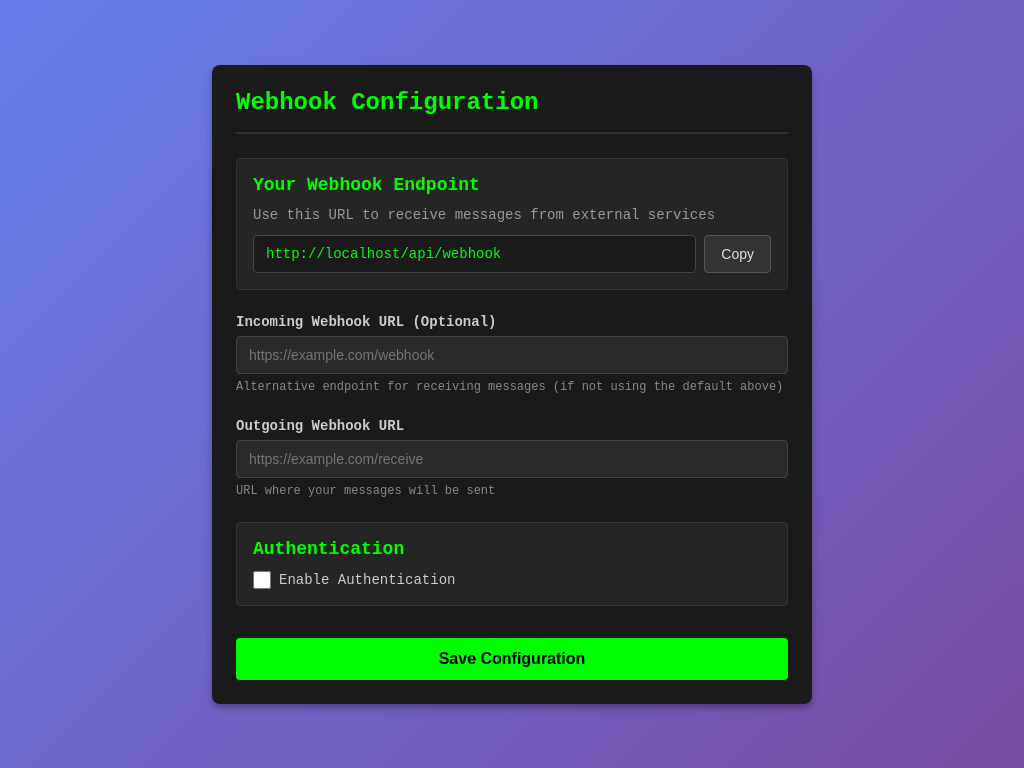
Test case: WebhookConfig › should require auth token when auth is enabled
Enable auth
Step 1. Click the checkbox labelled "Enable Authentication" → (262, 580), box [253,570,271,588]
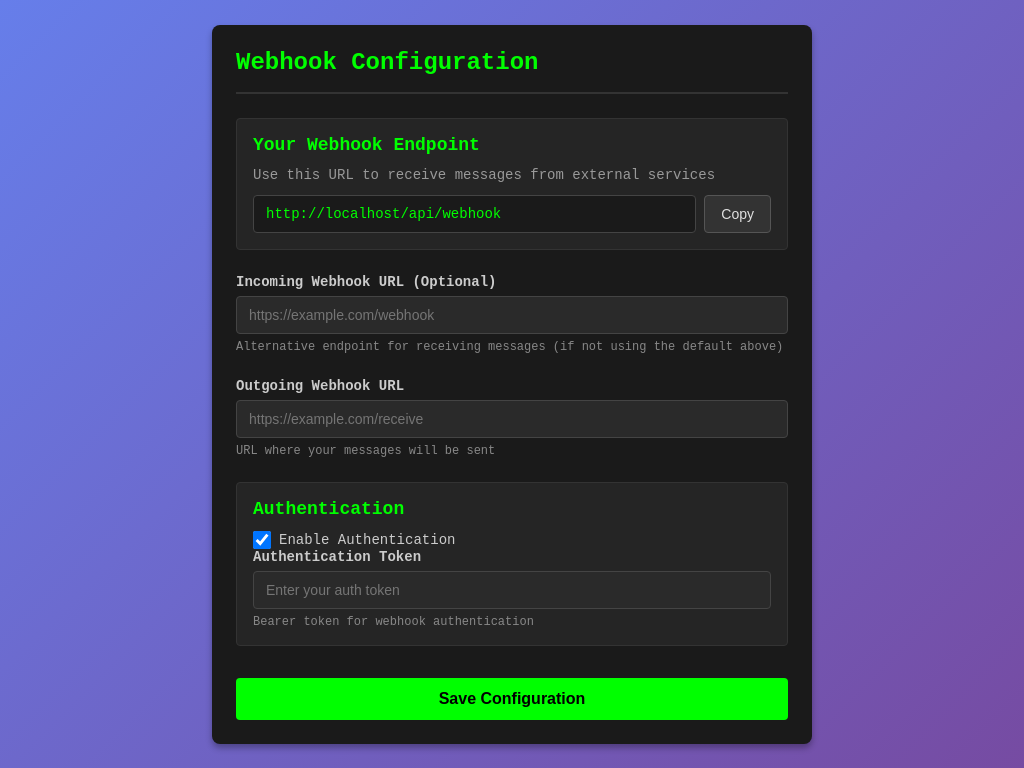
Try to submit without token
Step 2. Click the button "Save Configuration" → (512, 698), box [236,678,788,720]
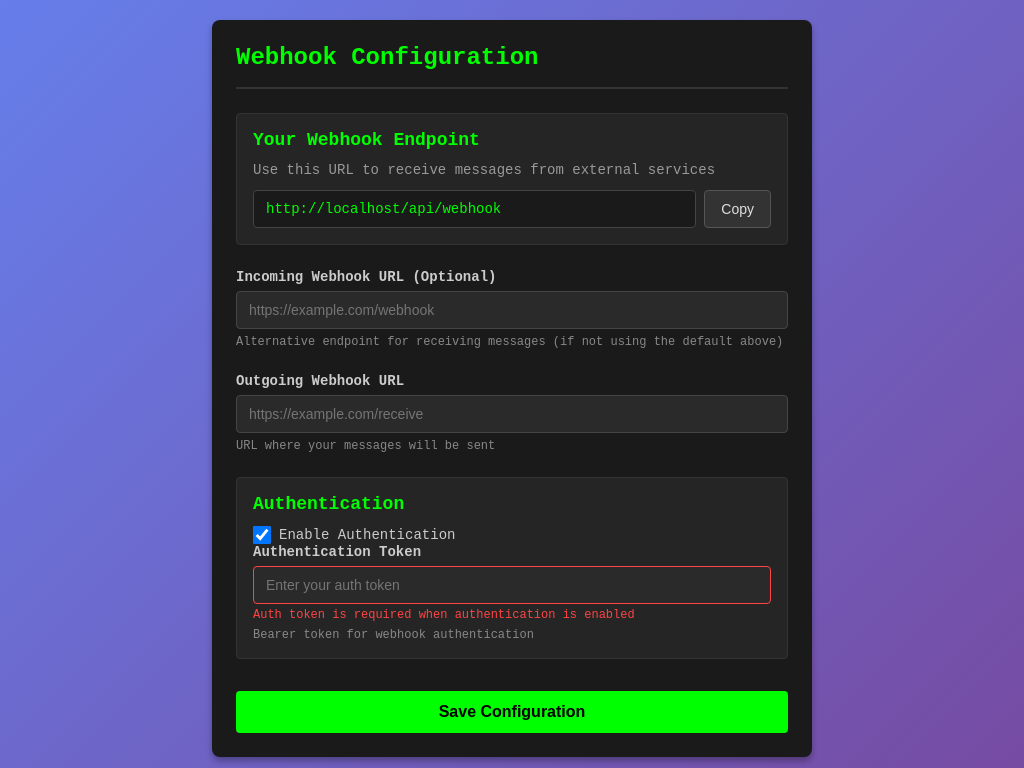
expect the text "Auth token is required when authentication is enabled" is shown: met, box [253,608,635,622]
